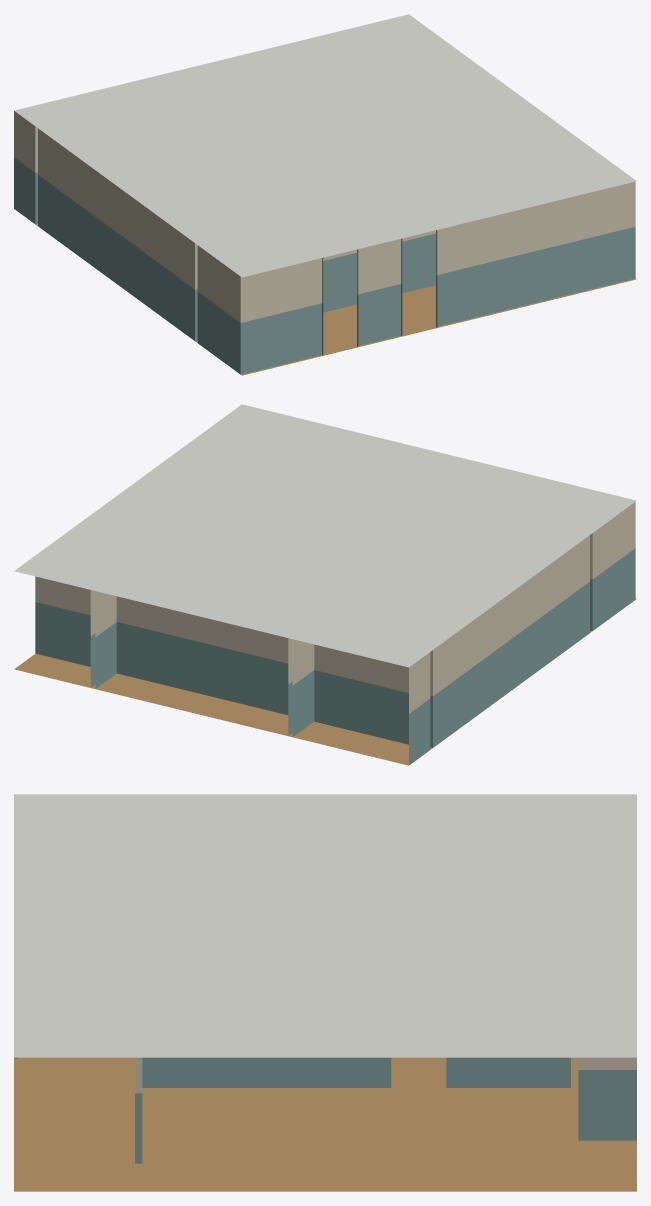
The model's file is chunk_0_3.glb.
3 views of the same model, one above another, from view 1: azimuth 30°, elevation 25°; view 2: azimuth 150°, elevation 25°; view 3: azimuth 270°, elevation 25° (orthographic). The views are drawn at different scales.
Visible parts, largest first — view 1: chunk_0_3; view 2: chunk_0_3; view 3: chunk_0_3.
Boxes of the visible parts, box(x1,y1,x2,y2) form: chunk_0_3: box(14, 14, 636, 375); chunk_0_3: box(14, 404, 636, 765); chunk_0_3: box(14, 794, 636, 1191).
Bounding box in the file's own units: 12 × 2.85 × 12.
